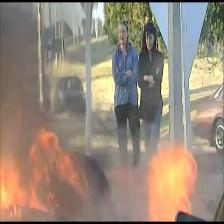fire: (0, 102, 89, 220), (136, 131, 207, 221)
